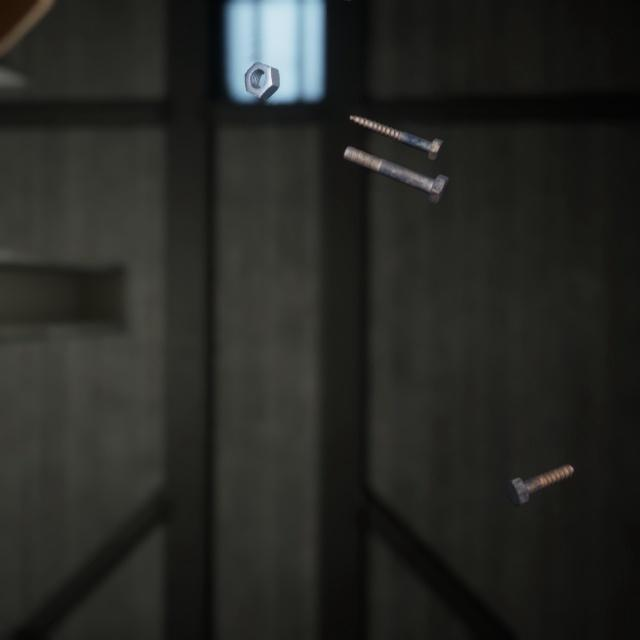bolt: (338, 128, 453, 195), (345, 98, 448, 153), (501, 438, 578, 489)
nut: (240, 45, 284, 92)
